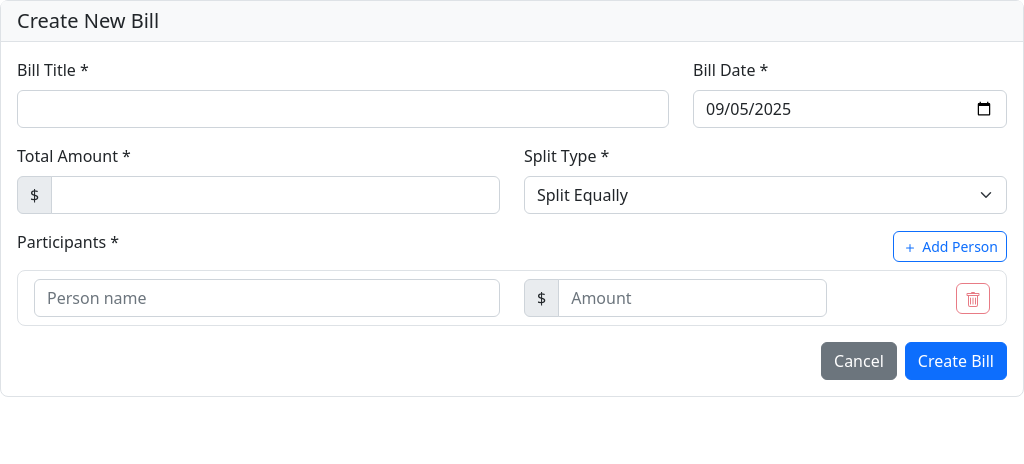
Test: BillForm › Form Validation › shows validation errors for required fields
The image size is (1024, 464).
Click the button "Create Bill" at {"x": 956, "y": 361}, box [905,342,1007,380]
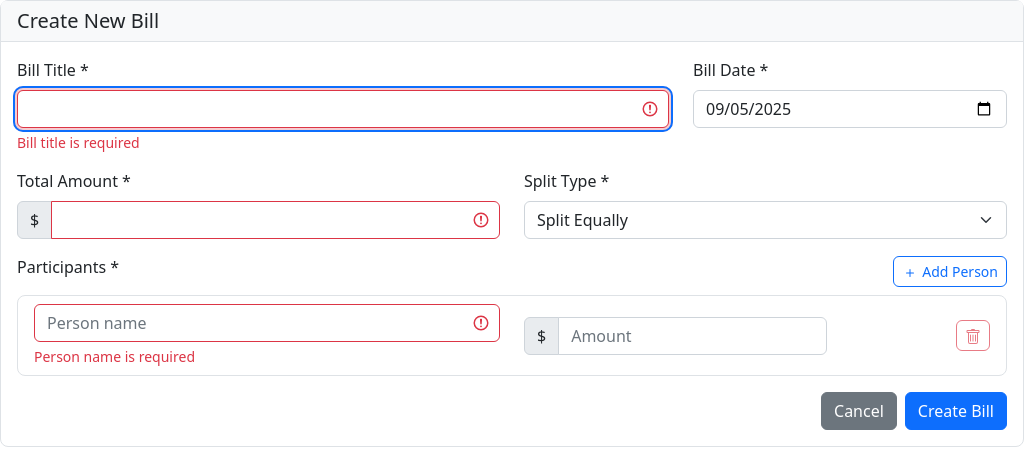
Result: the text "Bill title is required" is shown at [17,133,140,152]
